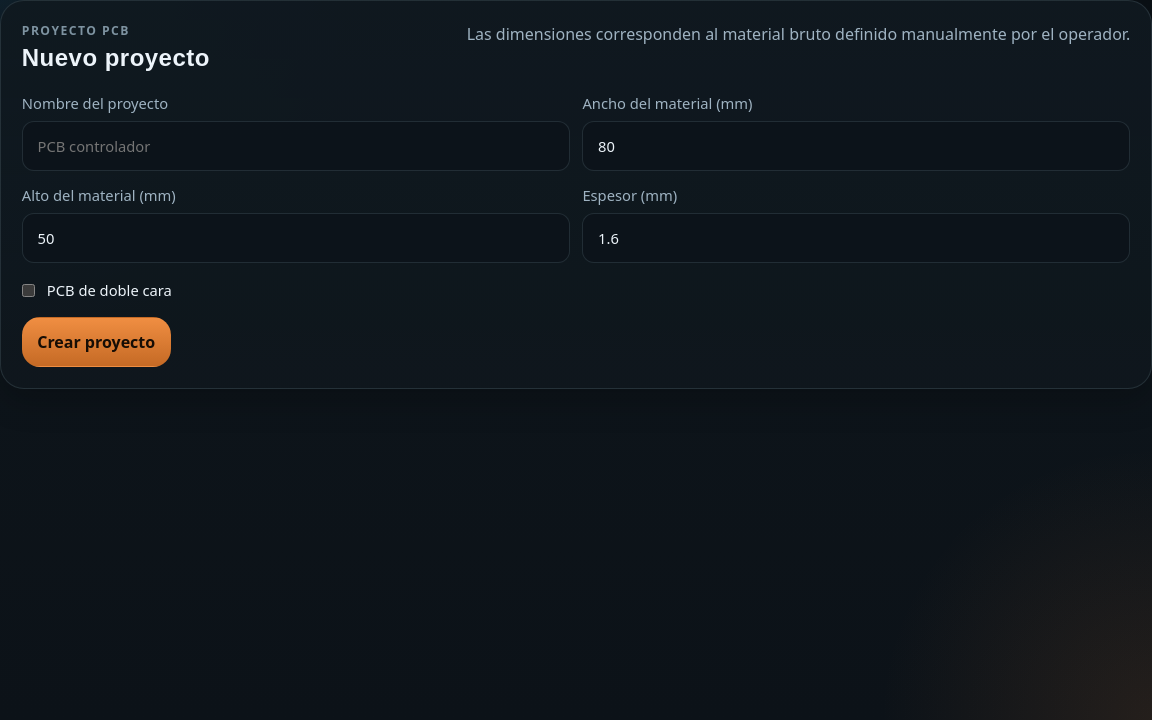
it: ProjectForm › muestra un error cuando las dimensiones no son positivas
In the field labelled "Nombre del proyecto": (296, 146) [22,121,570,171], type "PCB demo"
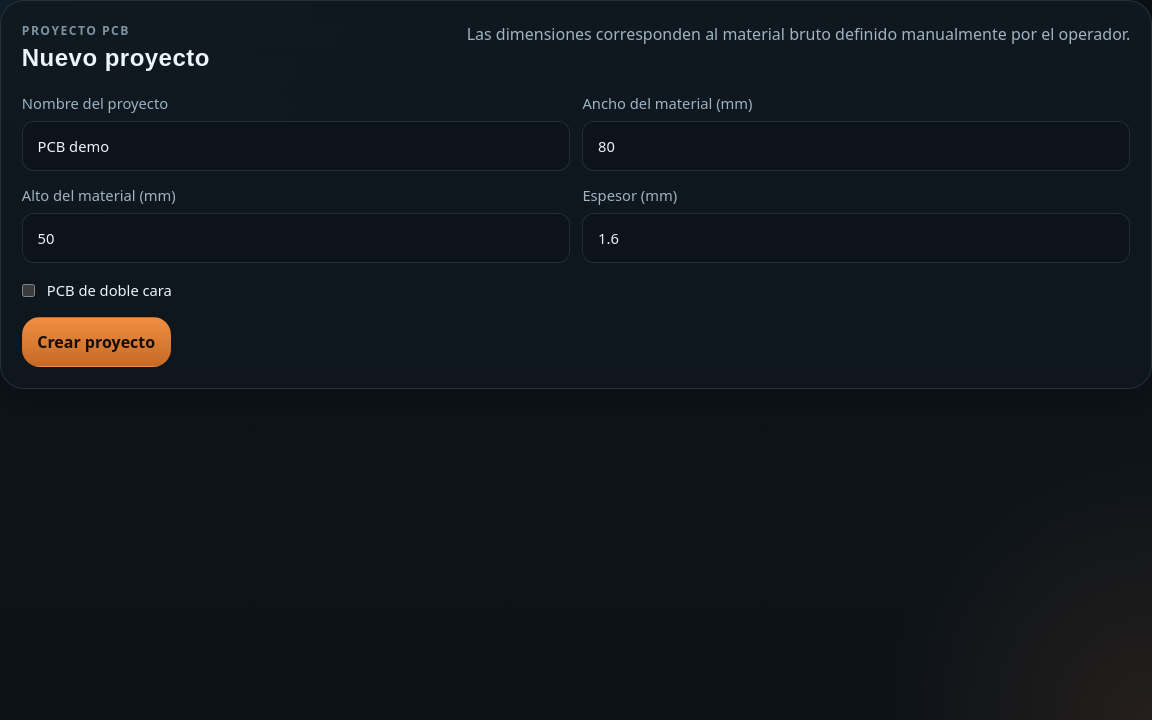
Replace the text in the number field labelled "Ancho del material (mm)" with "0": (856, 146) [582,121,1130,171]
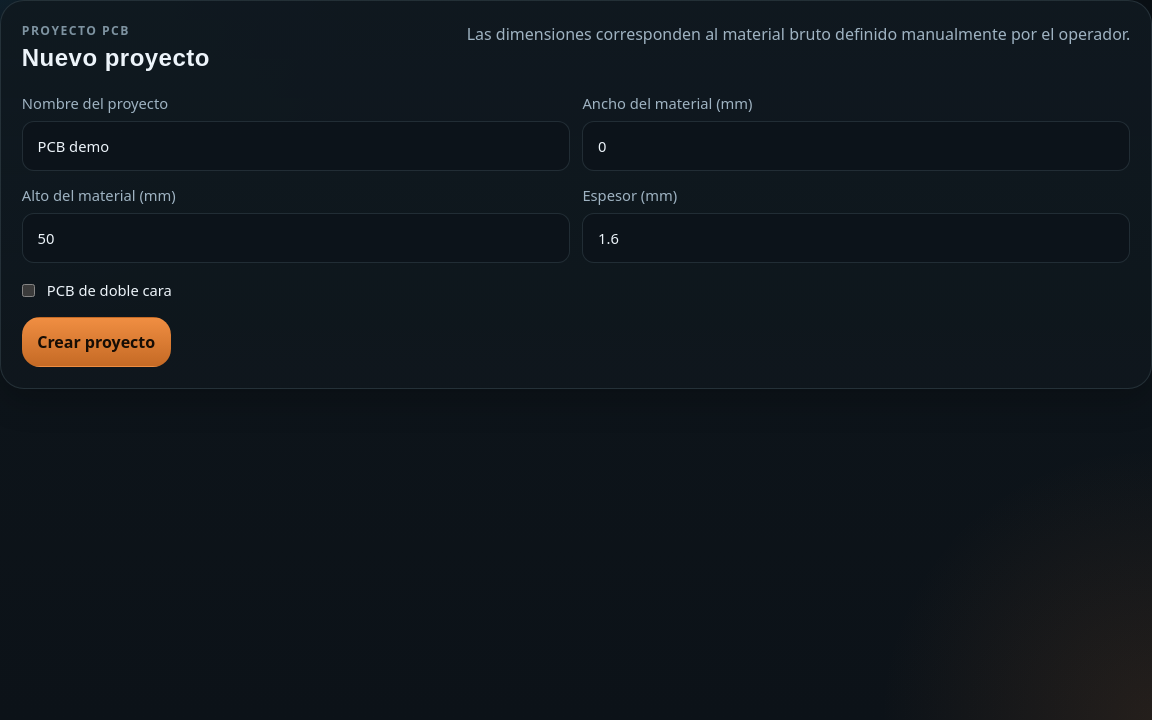
Submit the form named "Crear proyecto", box [0,0,1151,388]
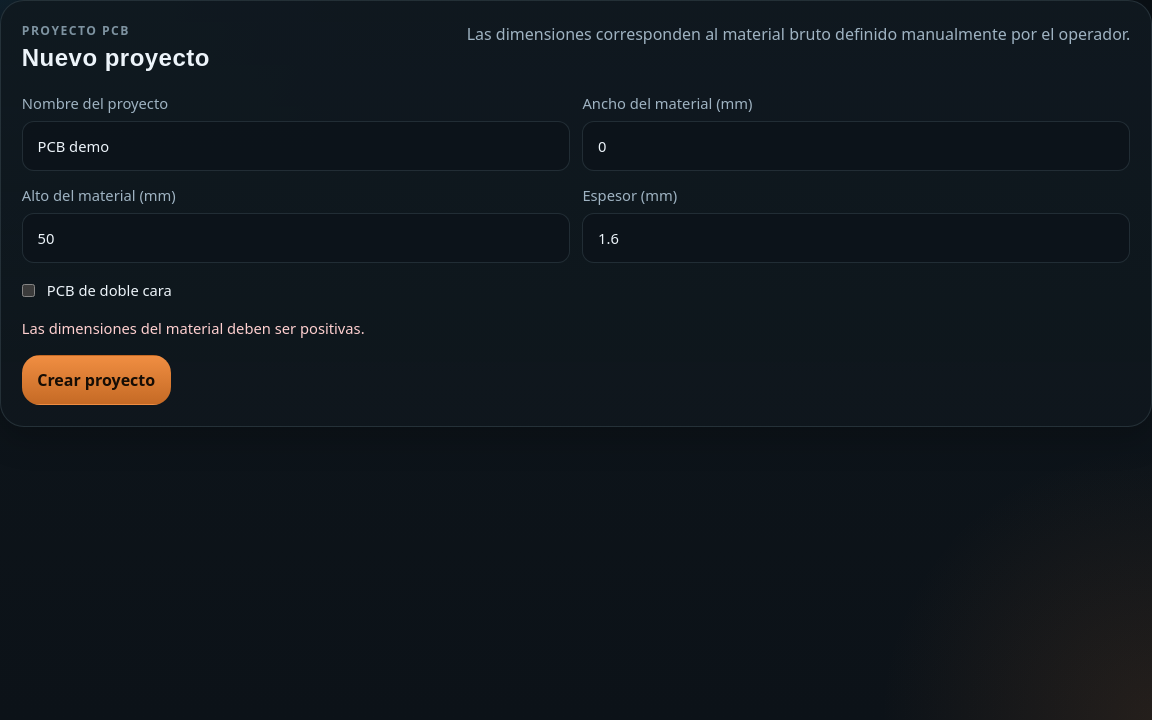
Result: the text "Las dimensiones del material deben ser positivas." is shown at [22,318,365,338]
